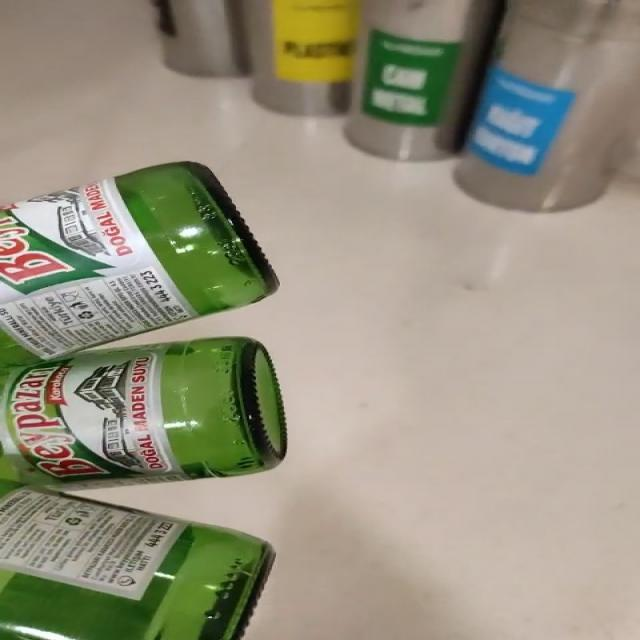Glass: (0, 162, 287, 640)
